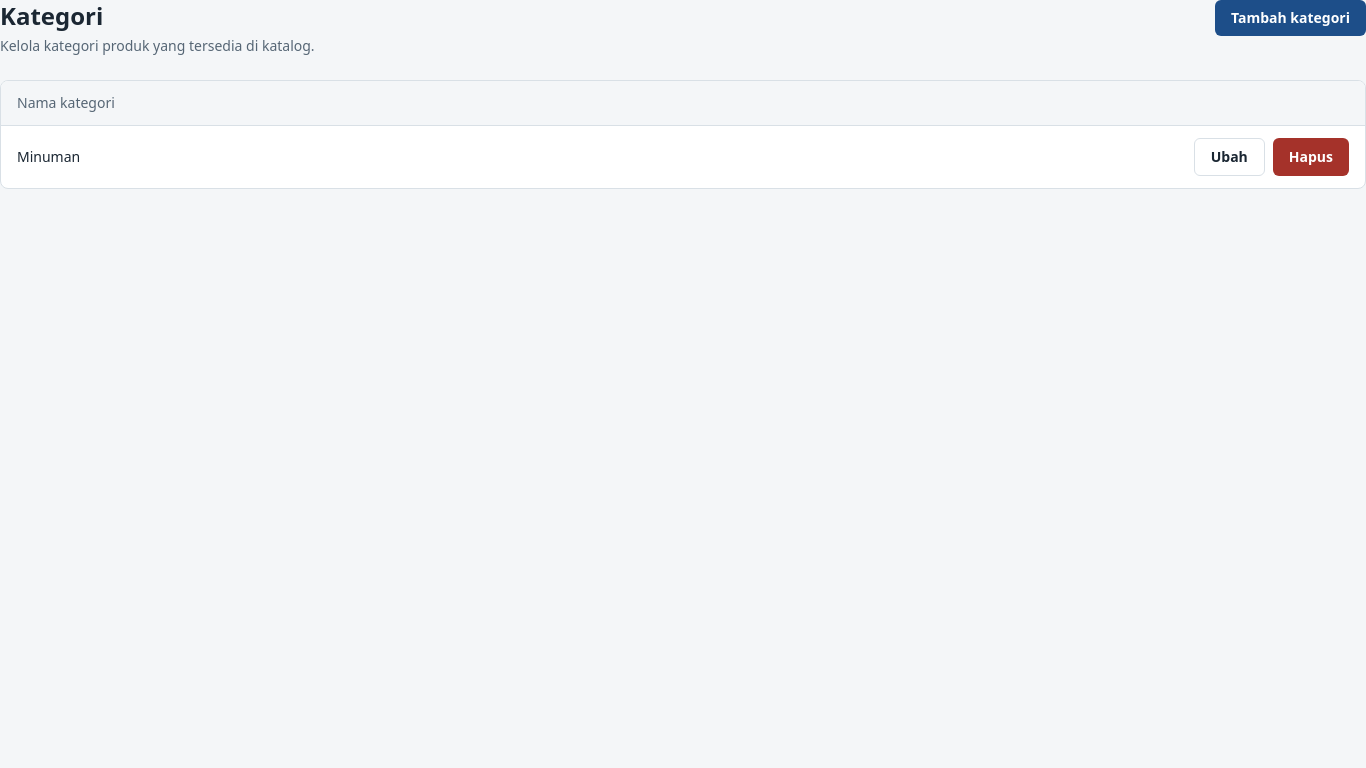
menampilkan alasan saat kategori yang masih dipakai gagal dihapus
Click the button with aria-label "Hapus Minuman".
click(1311, 157)  # box left=1273, top=138, right=1349, bottom=176
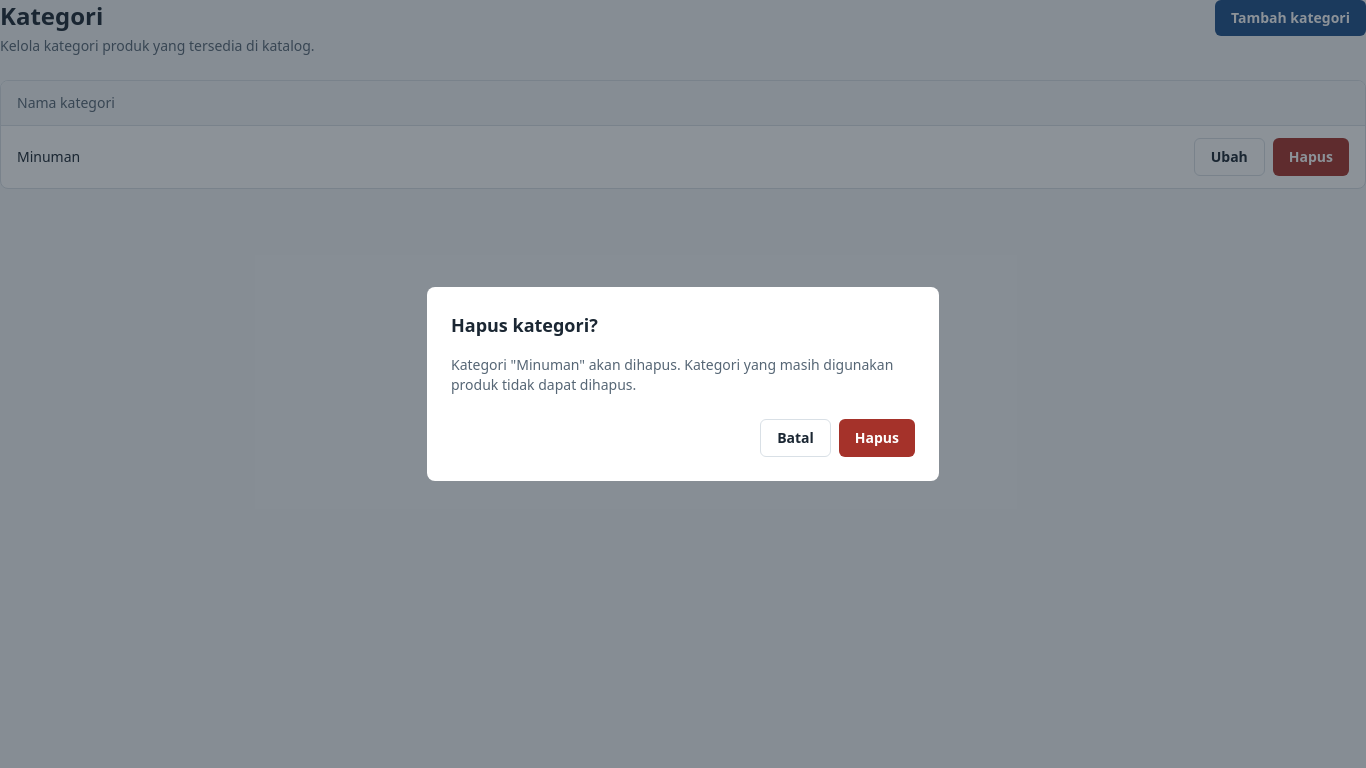
Click the button "Hapus".
click(877, 438)  # box left=839, top=419, right=915, bottom=457
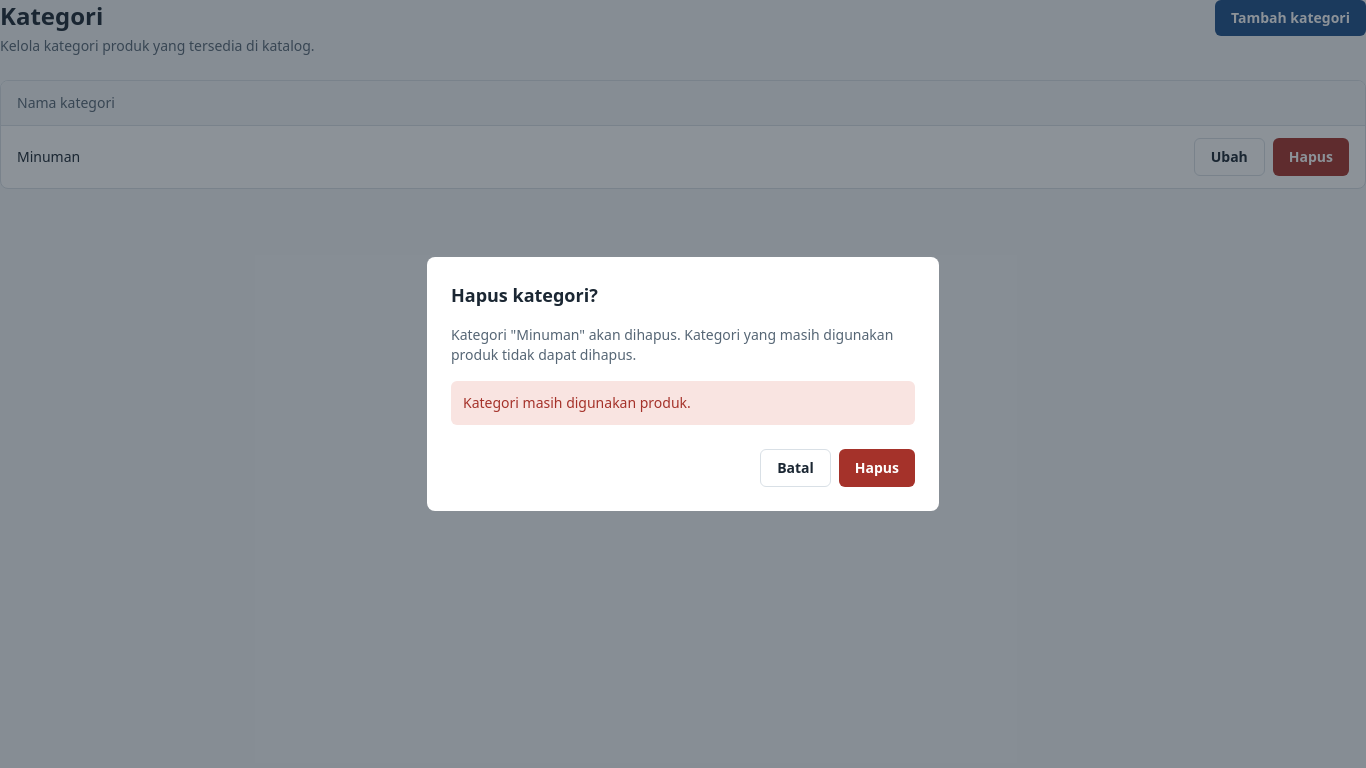
Now the message reads "Kategori masih digunakan produk.", box left=463, top=393, right=691, bottom=412
